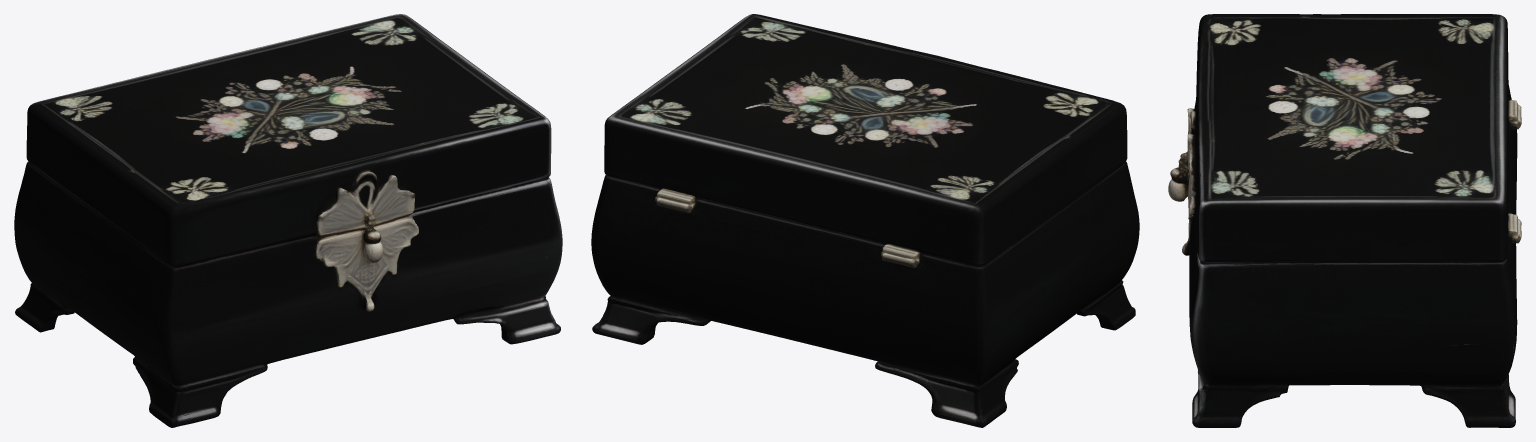
3 views of the same model, side by side, from view 1: azimuth 30°, elevation 25°; view 2: azimuth 150°, elevation 25°; view 3: azimuth 270°, elevation 25° (orthographic). The views are drawn at different scales.
Visible parts, largest first — view 1: world; view 2: world; view 3: world.
Part boxes in pixels (x1=…): world: x1=14, y1=14, x2=562, y2=427; world: x1=591, y1=14, x2=1139, y2=427; world: x1=1168, y1=14, x2=1521, y2=427.
Bounding box in the file's own units: 0.9971 × 0.513 × 0.7352.
1 material, 1 textured.
